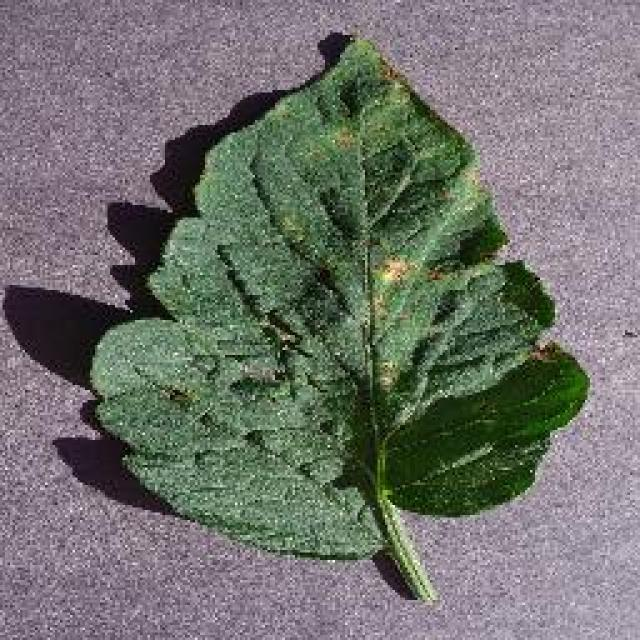Tomato___Target_Spot: (90, 40, 588, 602)
